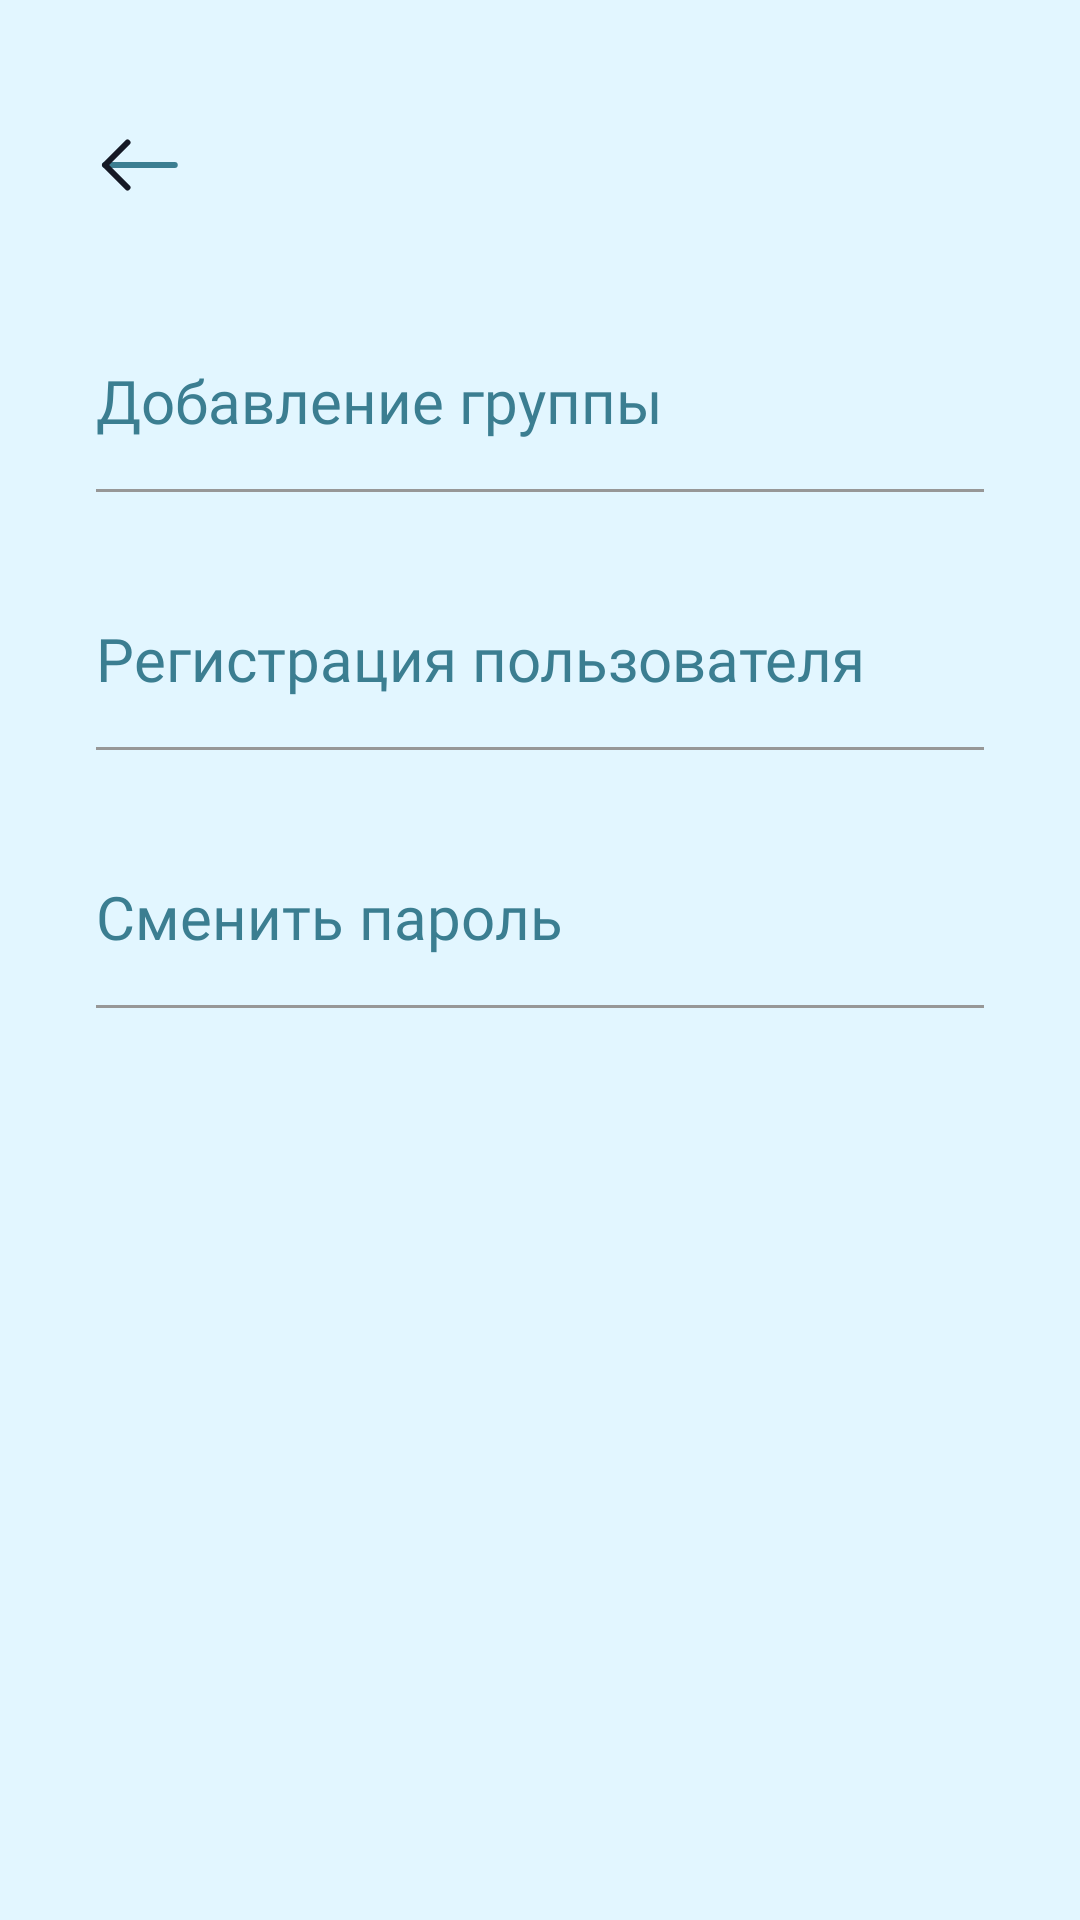

Where icons sit on this 1080×1920 app screen, as Rect(x1, y1, x2, y2):
back: Rect(102, 139, 178, 191)
